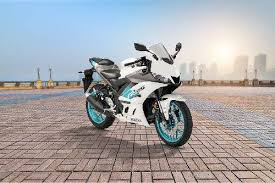motorcycle: (76, 39, 195, 148)
